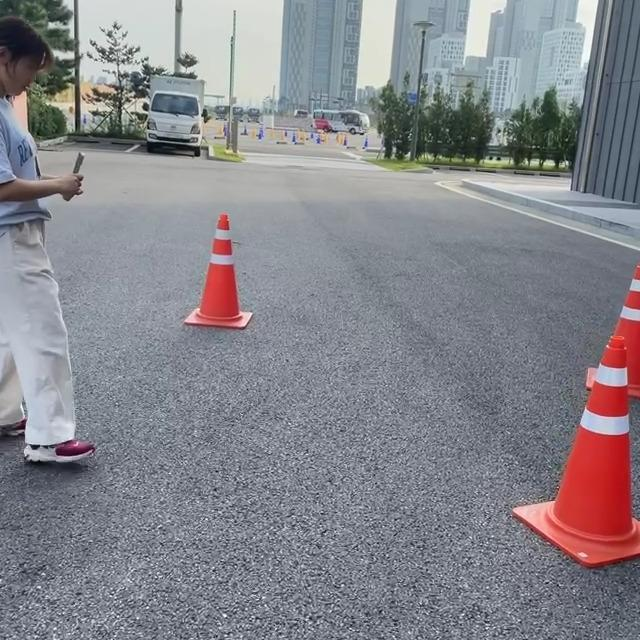fallen_object: (470, 317, 640, 580), (183, 162, 280, 386), (603, 257, 640, 507)
